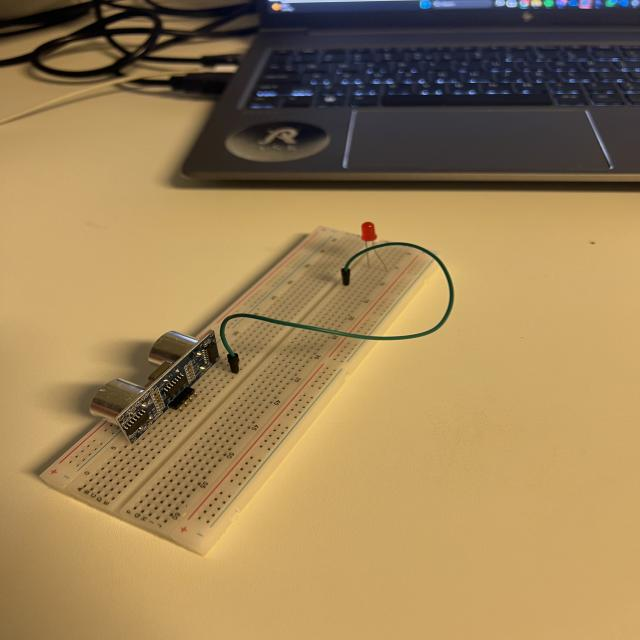BreadBoard: (42, 224, 437, 552)
REDLed: (362, 215, 388, 251)
UltrasoneSensor: (73, 326, 236, 445)
